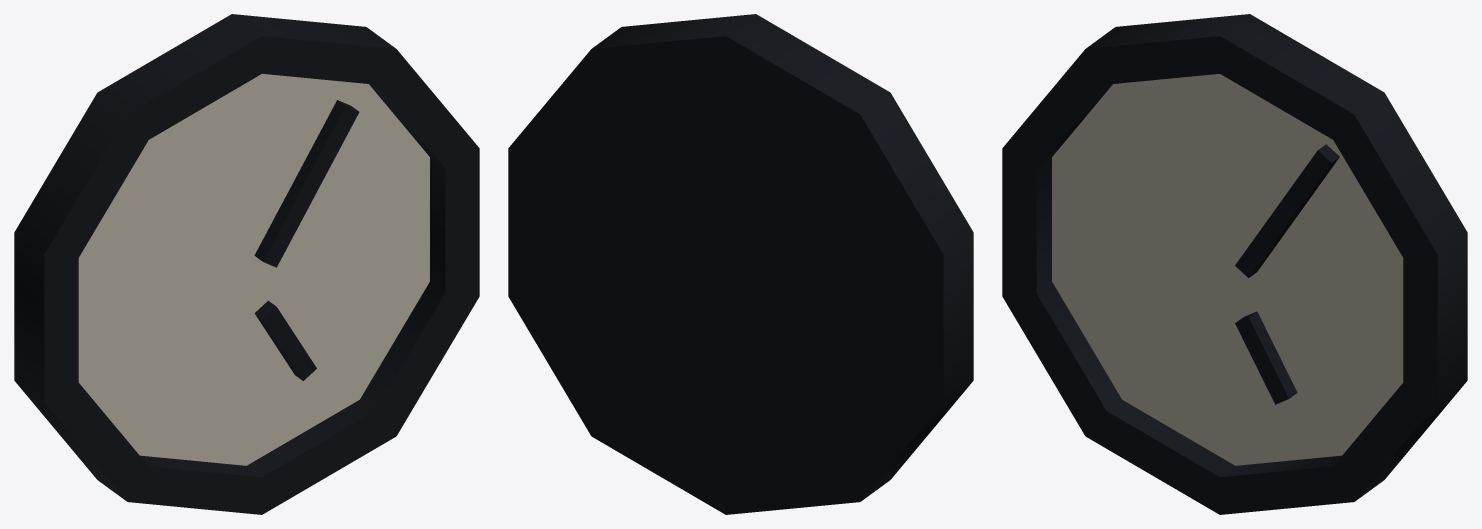
File: Clock.fbx
3 views of the same model, side by side, from view 1: azimuth 30°, elevation 25°; view 2: azimuth 150°, elevation 25°; view 3: azimuth 330°, elevation 25° (orthographic).
Parts seen in each view (by area): view 1: Clock; view 2: Clock; view 3: Clock.
Boxes of the visible parts, box(x1,y1,x2,y2) form: Clock: box(14, 14, 479, 514); Clock: box(508, 14, 973, 514); Clock: box(1002, 14, 1467, 514).
Bounding box in the file's own units: 79.41 × 83.5 × 9.52.
